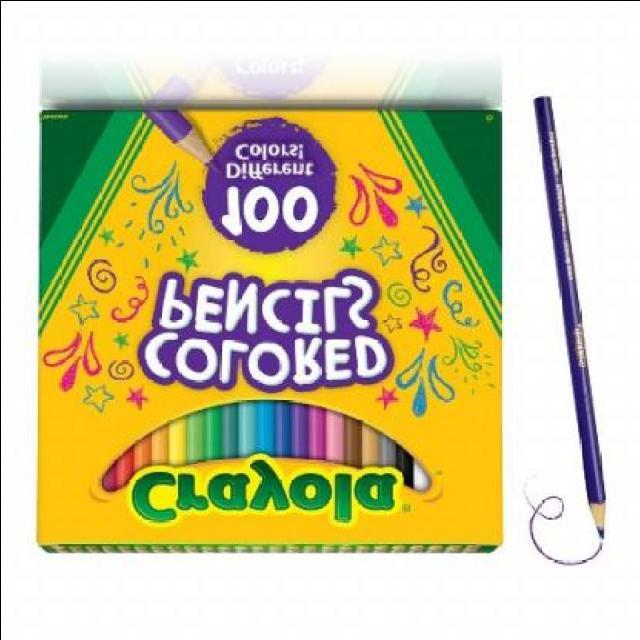pencil: (581, 480, 613, 546)
